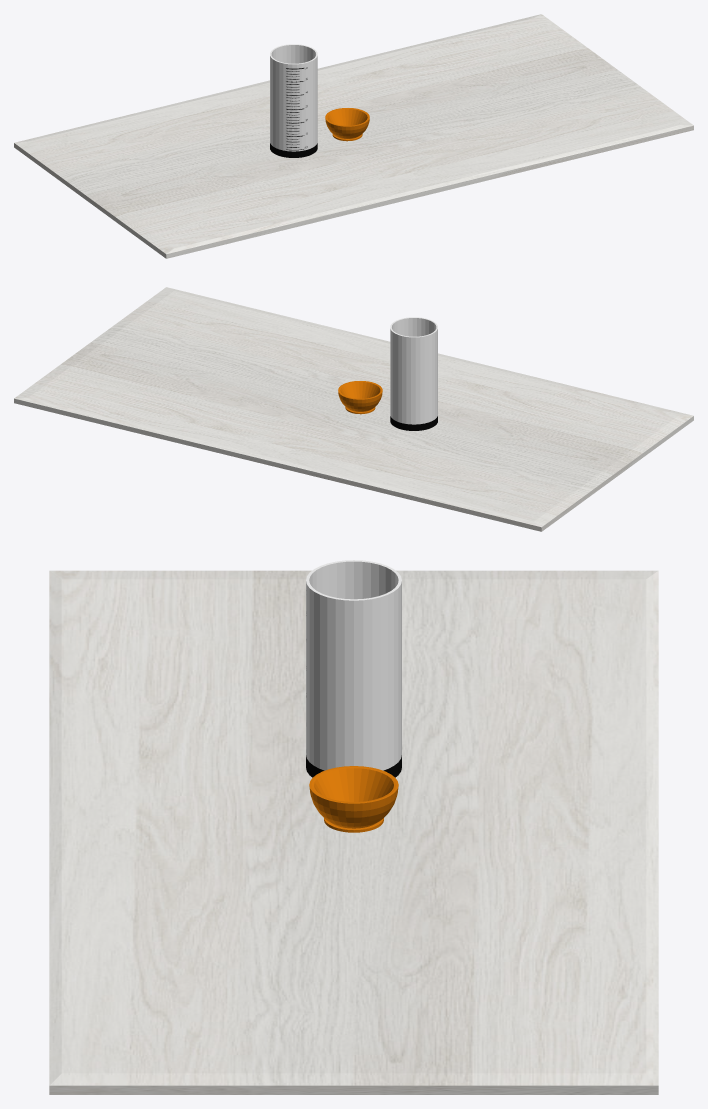
Rendered from virt_ice_scene.fbx.
3 views of the same model, one above another, from view 1: azimuth 30°, elevation 25°; view 2: azimuth 150°, elevation 25°; view 3: azimuth 270°, elevation 25° (orthographic). The views are drawn at different scales.
Visible parts, largest first — view 1: Стол, Мерный стакан, Калориметр; view 2: Стол, Мерный стакан, Калориметр; view 3: Стол, Мерный стакан, Калориметр.
Part boxes in pixels (x1,y1,x2,y2): Стол: (14,14,693,258); Мерный стакан: (270,44,317,151); Калориметр: (325,108,369,141); Стол: (14,287,693,531); Мерный стакан: (390,317,437,424); Калориметр: (338,381,382,414); Стол: (49,570,658,1094); Мерный стакан: (306,560,401,770); Калориметр: (309,766,398,832).
Size of the model in its own units: 20 by 3.59 by 10.
Materials: 4 (2 with a texture image).
